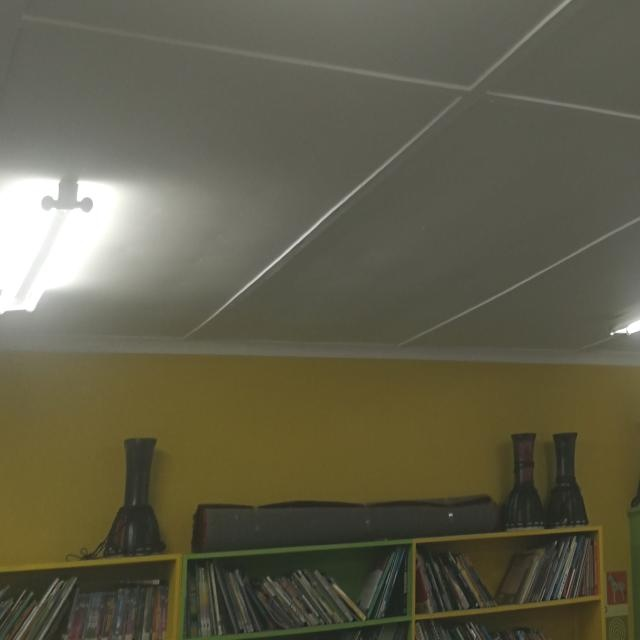fluorescent tube: (3, 181, 95, 343), (597, 237, 640, 358)
